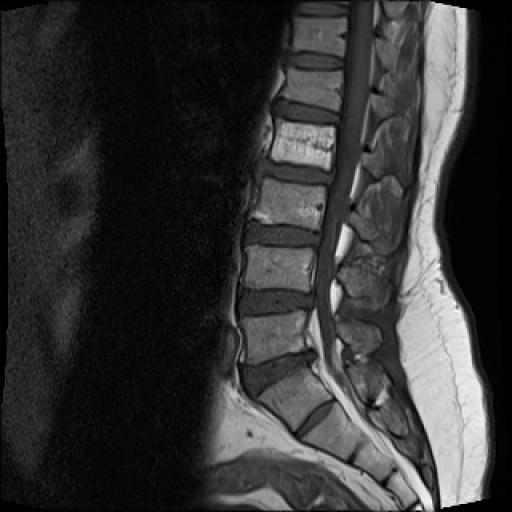L1: (274, 120, 334, 170)
L2: (252, 180, 324, 230)
L3: (244, 246, 314, 292)
L4: (242, 311, 305, 364)
L5: (258, 367, 332, 430)
S1: (301, 402, 362, 460)
